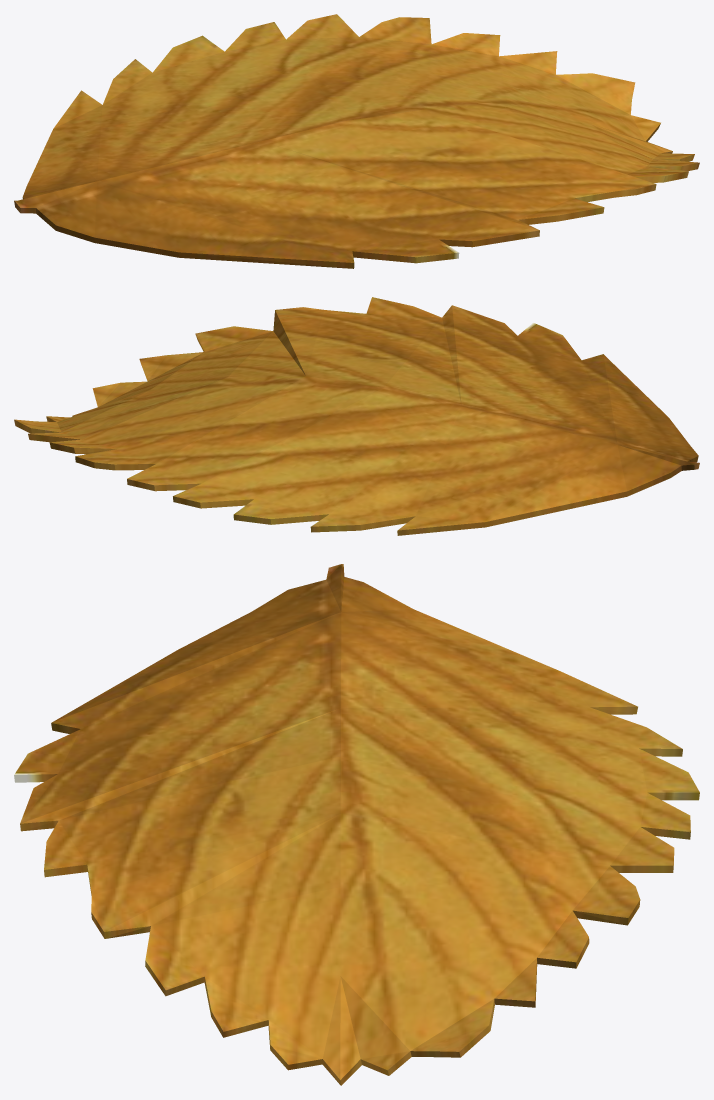
File: leaf4_collision.dae
The picture shows the model from 3 angles, top to bottom: view 1: azimuth 30°, elevation 25°; view 2: azimuth 150°, elevation 25°; view 3: azimuth 270°, elevation 25°; orthographic projection. The views are drawn at different scales.
Parts seen in each view (by area): view 1: Plane; view 2: Plane; view 3: Plane.
Boxes of the visible parts, left/top/right/bottom form: Plane: left=14, top=14, right=699, bottom=268; Plane: left=14, top=297, right=699, bottom=535; Plane: left=14, top=564, right=699, bottom=1085.
Bounding box in the file's own units: 0.1374 × 0.1018 × 0.0227.
1 material, 1 textured.
